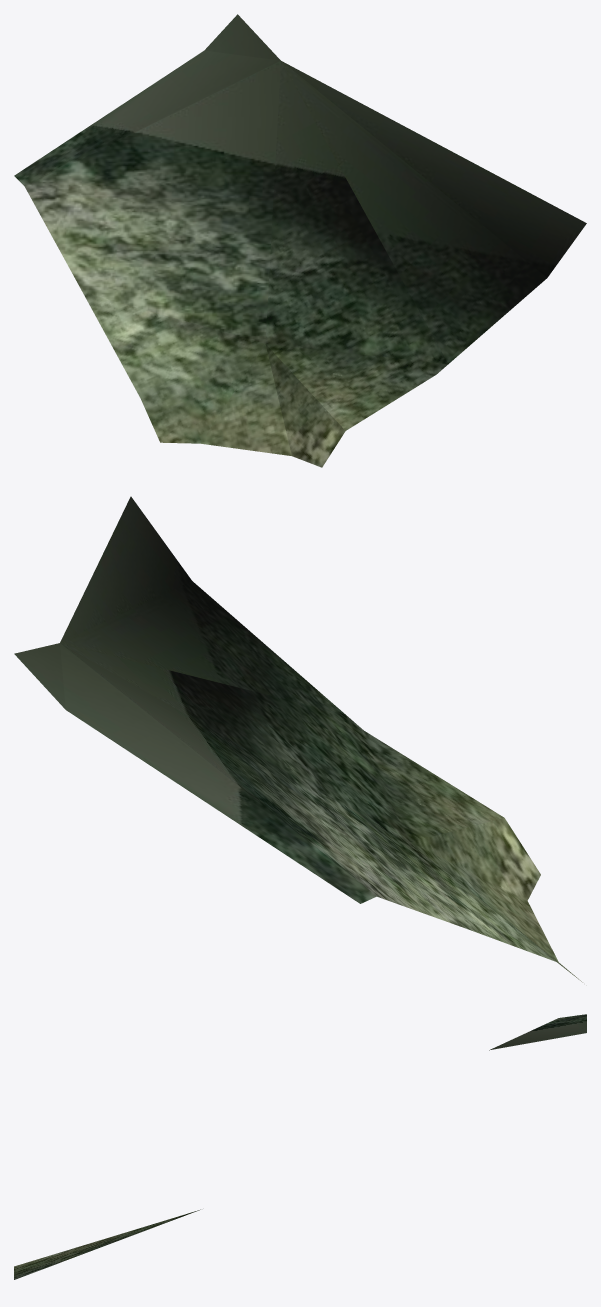
The picture shows the model from 3 angles, top to bottom: view 1: azimuth 30°, elevation 25°; view 2: azimuth 150°, elevation 25°; view 3: azimuth 270°, elevation 25°; orthographic projection. The views are drawn at different scales.
Size of the model in its own units: 5.78 by 4.09 by 5.9.
3 materials, 3 textured.
